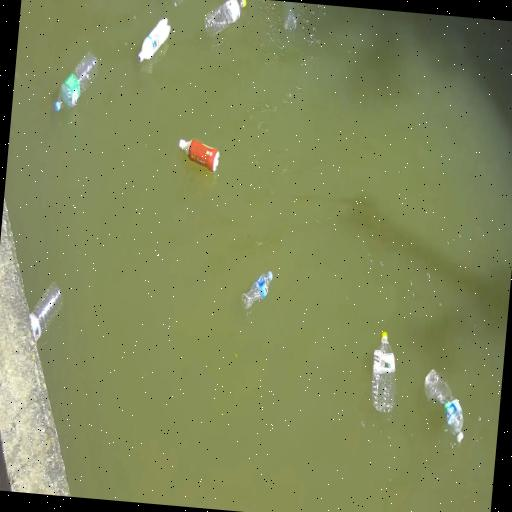plastic: (423, 370, 462, 442), (54, 53, 97, 111), (371, 331, 395, 413), (29, 282, 61, 340), (204, 0, 245, 37), (137, 18, 170, 62), (178, 140, 218, 172), (241, 271, 271, 309), (281, 1, 297, 31)
